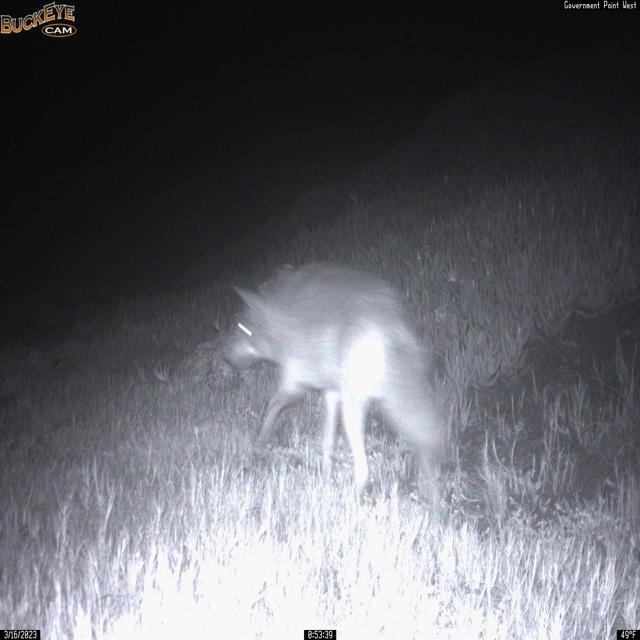coyote: (220, 260, 449, 518)
